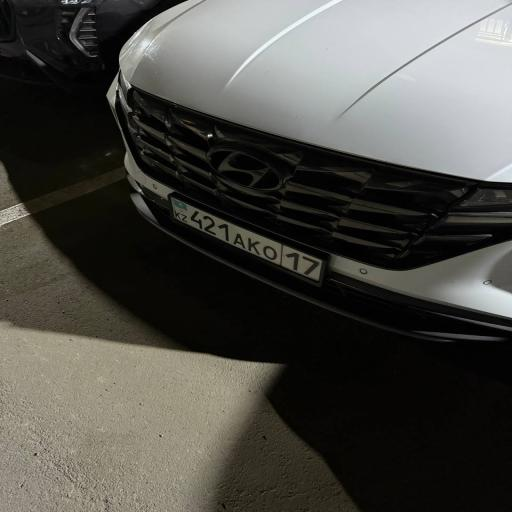book: (107, 0, 512, 341)
